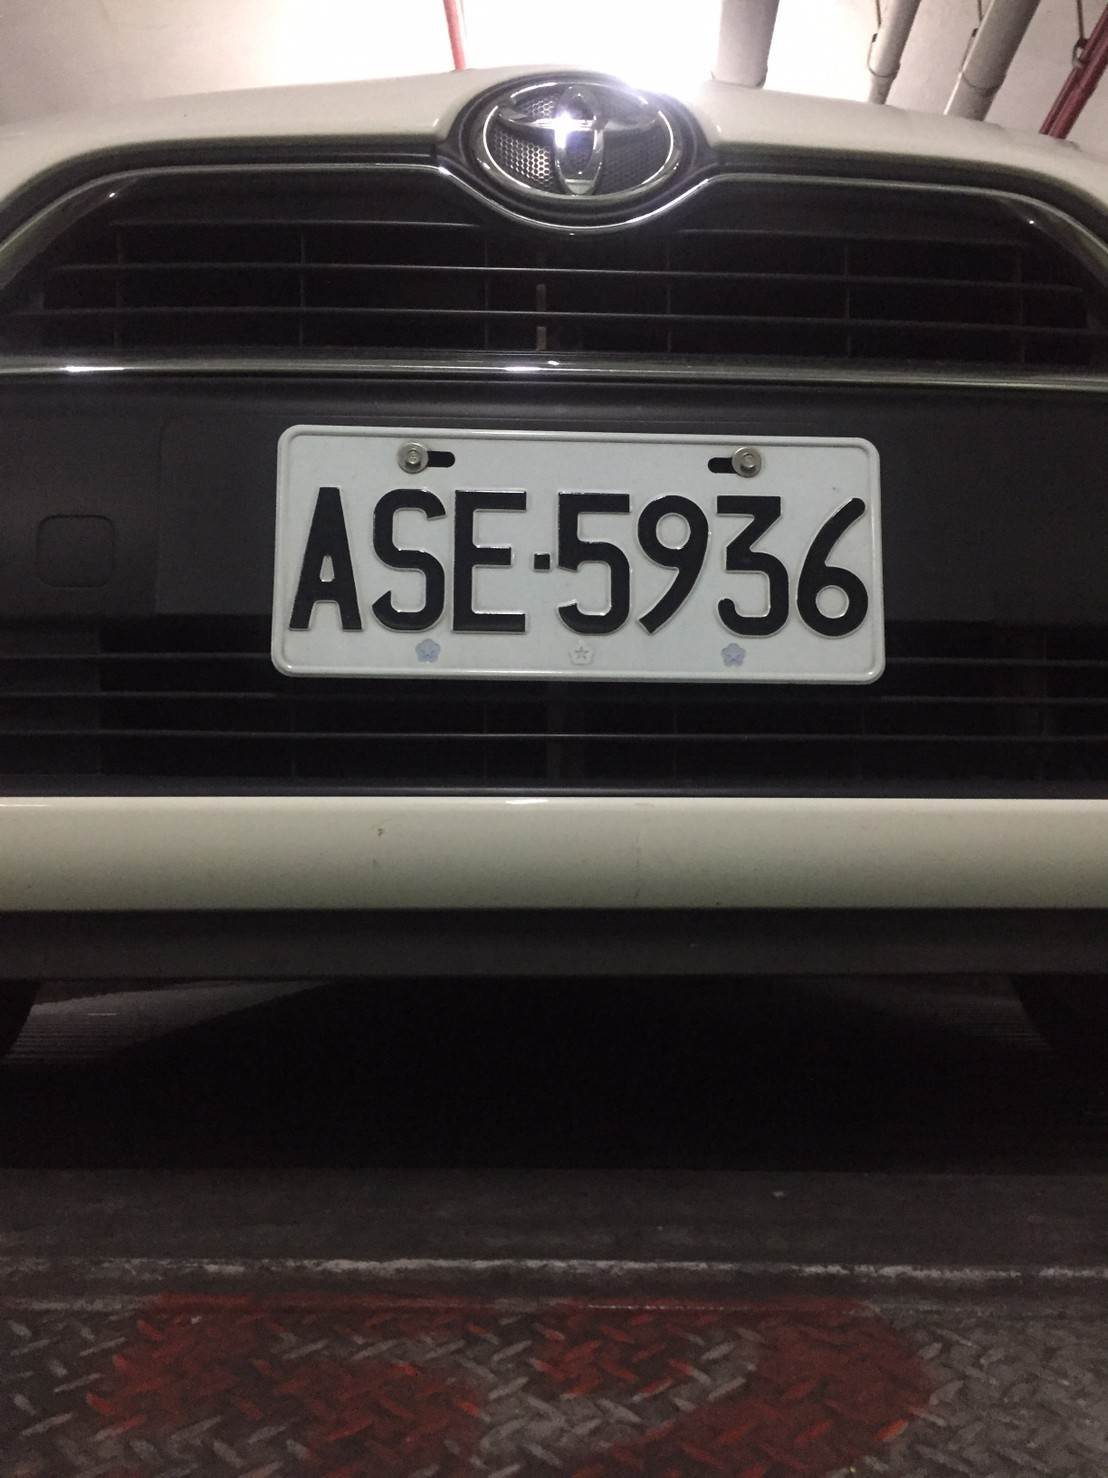LP: (272, 422, 887, 684)
